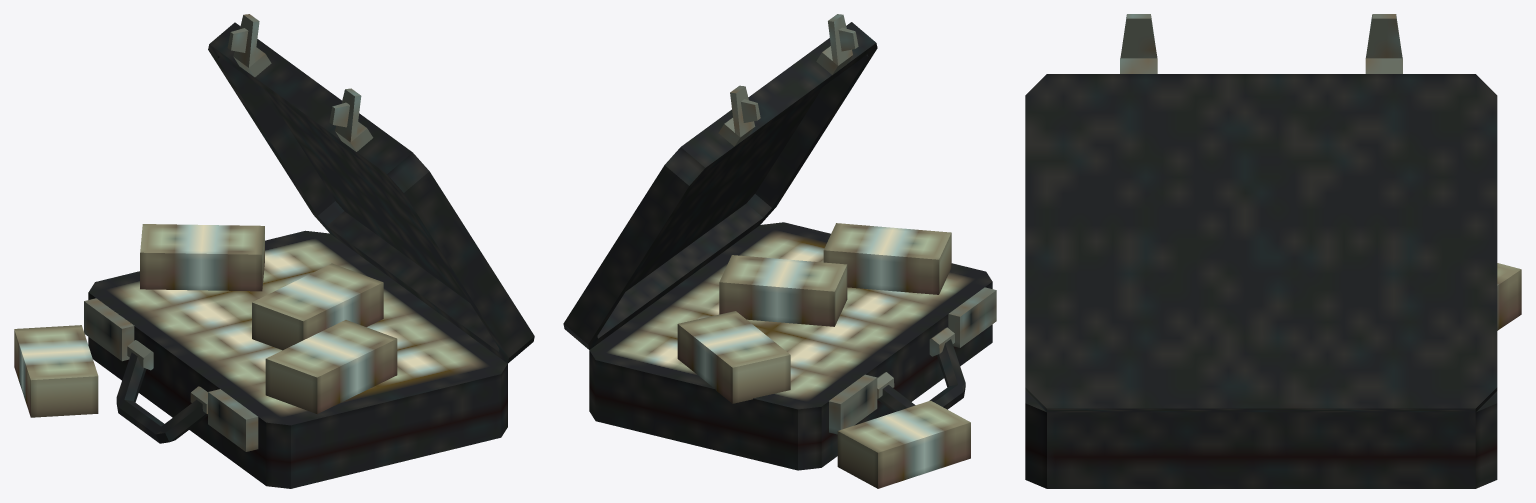
File: briefcase.glb
3 renders of one model, left to right at view 1: azimuth 30°, elevation 25°; view 2: azimuth 150°, elevation 25°; view 3: azimuth 270°, elevation 25°, orthographic. The views are drawn at different scales.
Visible parts, largest first — view 1: Cube_#16608; view 2: Cube_#16608; view 3: Cube_#16608.
Boxes of the visible parts, x1=… form: Cube_#16608: x1=14, y1=14, x2=534, y2=488; Cube_#16608: x1=563, y1=14, x2=996, y2=488; Cube_#16608: x1=1025, y1=14, x2=1521, y2=488.
Bounding box in the file's own units: 1 × 0.8583 × 0.9544.
Materials: 1 (1 with a texture image).
